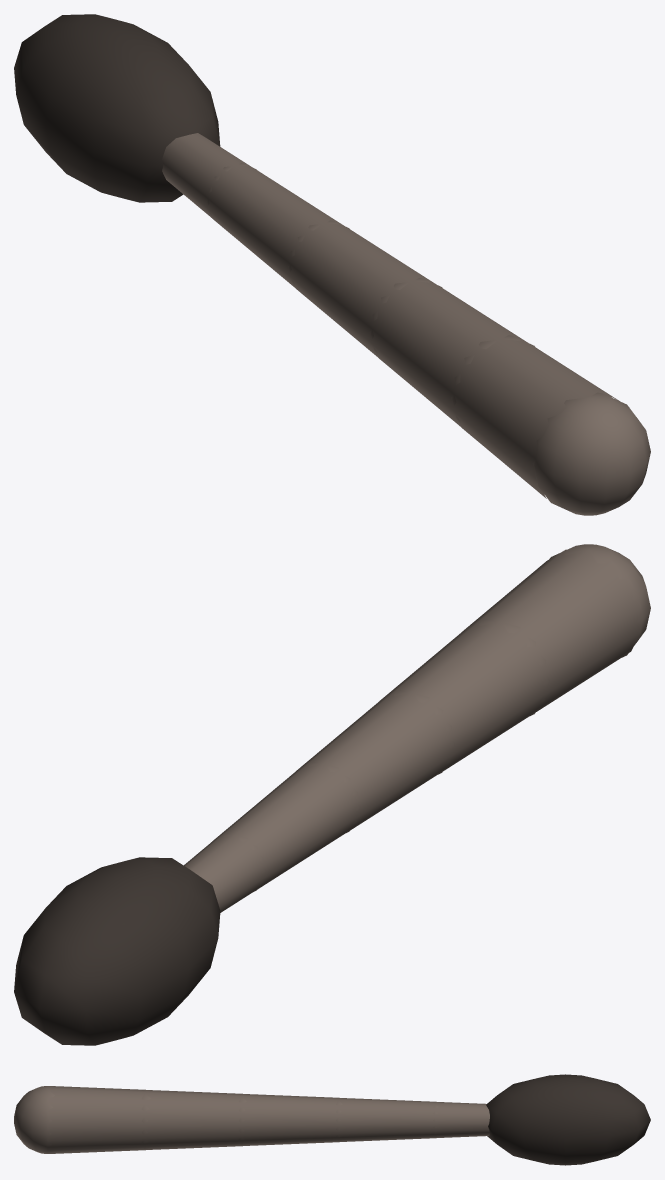
Rendered from gaur_tail.glb.
3 views of the same model, one above another, from view 1: azimuth 30°, elevation 25°; view 2: azimuth 150°, elevation 25°; view 3: azimuth 270°, elevation 25° (orthographic). The views are drawn at different scales.
Visible parts, largest first — view 1: gaur_tail_seg05, gaur_tail_seg01, gaur_tail_seg02, gaur_tail_seg03, gaur_tail_seg04; view 2: gaur_tail_seg05, gaur_tail_seg01, gaur_tail_seg02, gaur_tail_seg03, gaur_tail_seg04; view 3: gaur_tail_seg05, gaur_tail_seg01, gaur_tail_seg02, gaur_tail_seg03, gaur_tail_seg04.
Boxes of the visible parts, x1,y1,x2,y2 form: gaur_tail_seg05: (14,14,257,217); gaur_tail_seg01: (452,338,650,515); gaur_tail_seg02: (370,280,535,427); gaur_tail_seg03: (288,222,442,356); gaur_tail_seg04: (206,164,349,287); gaur_tail_seg05: (14,833,265,1045); gaur_tail_seg01: (462,544,650,711); gaur_tail_seg02: (380,618,549,770); gaur_tail_seg03: (296,690,454,830); gaur_tail_seg04: (213,761,360,889); gaur_tail_seg05: (433,1074,650,1165); gaur_tail_seg01: (14,1086,145,1153); gaur_tail_seg02: (141,1090,242,1149); gaur_tail_seg03: (239,1094,339,1145); gaur_tail_seg04: (336,1098,436,1141).
Bounding box in the file's own units: 0.1586 × 0.1586 × 1.11.
1 material, 1 textured.
